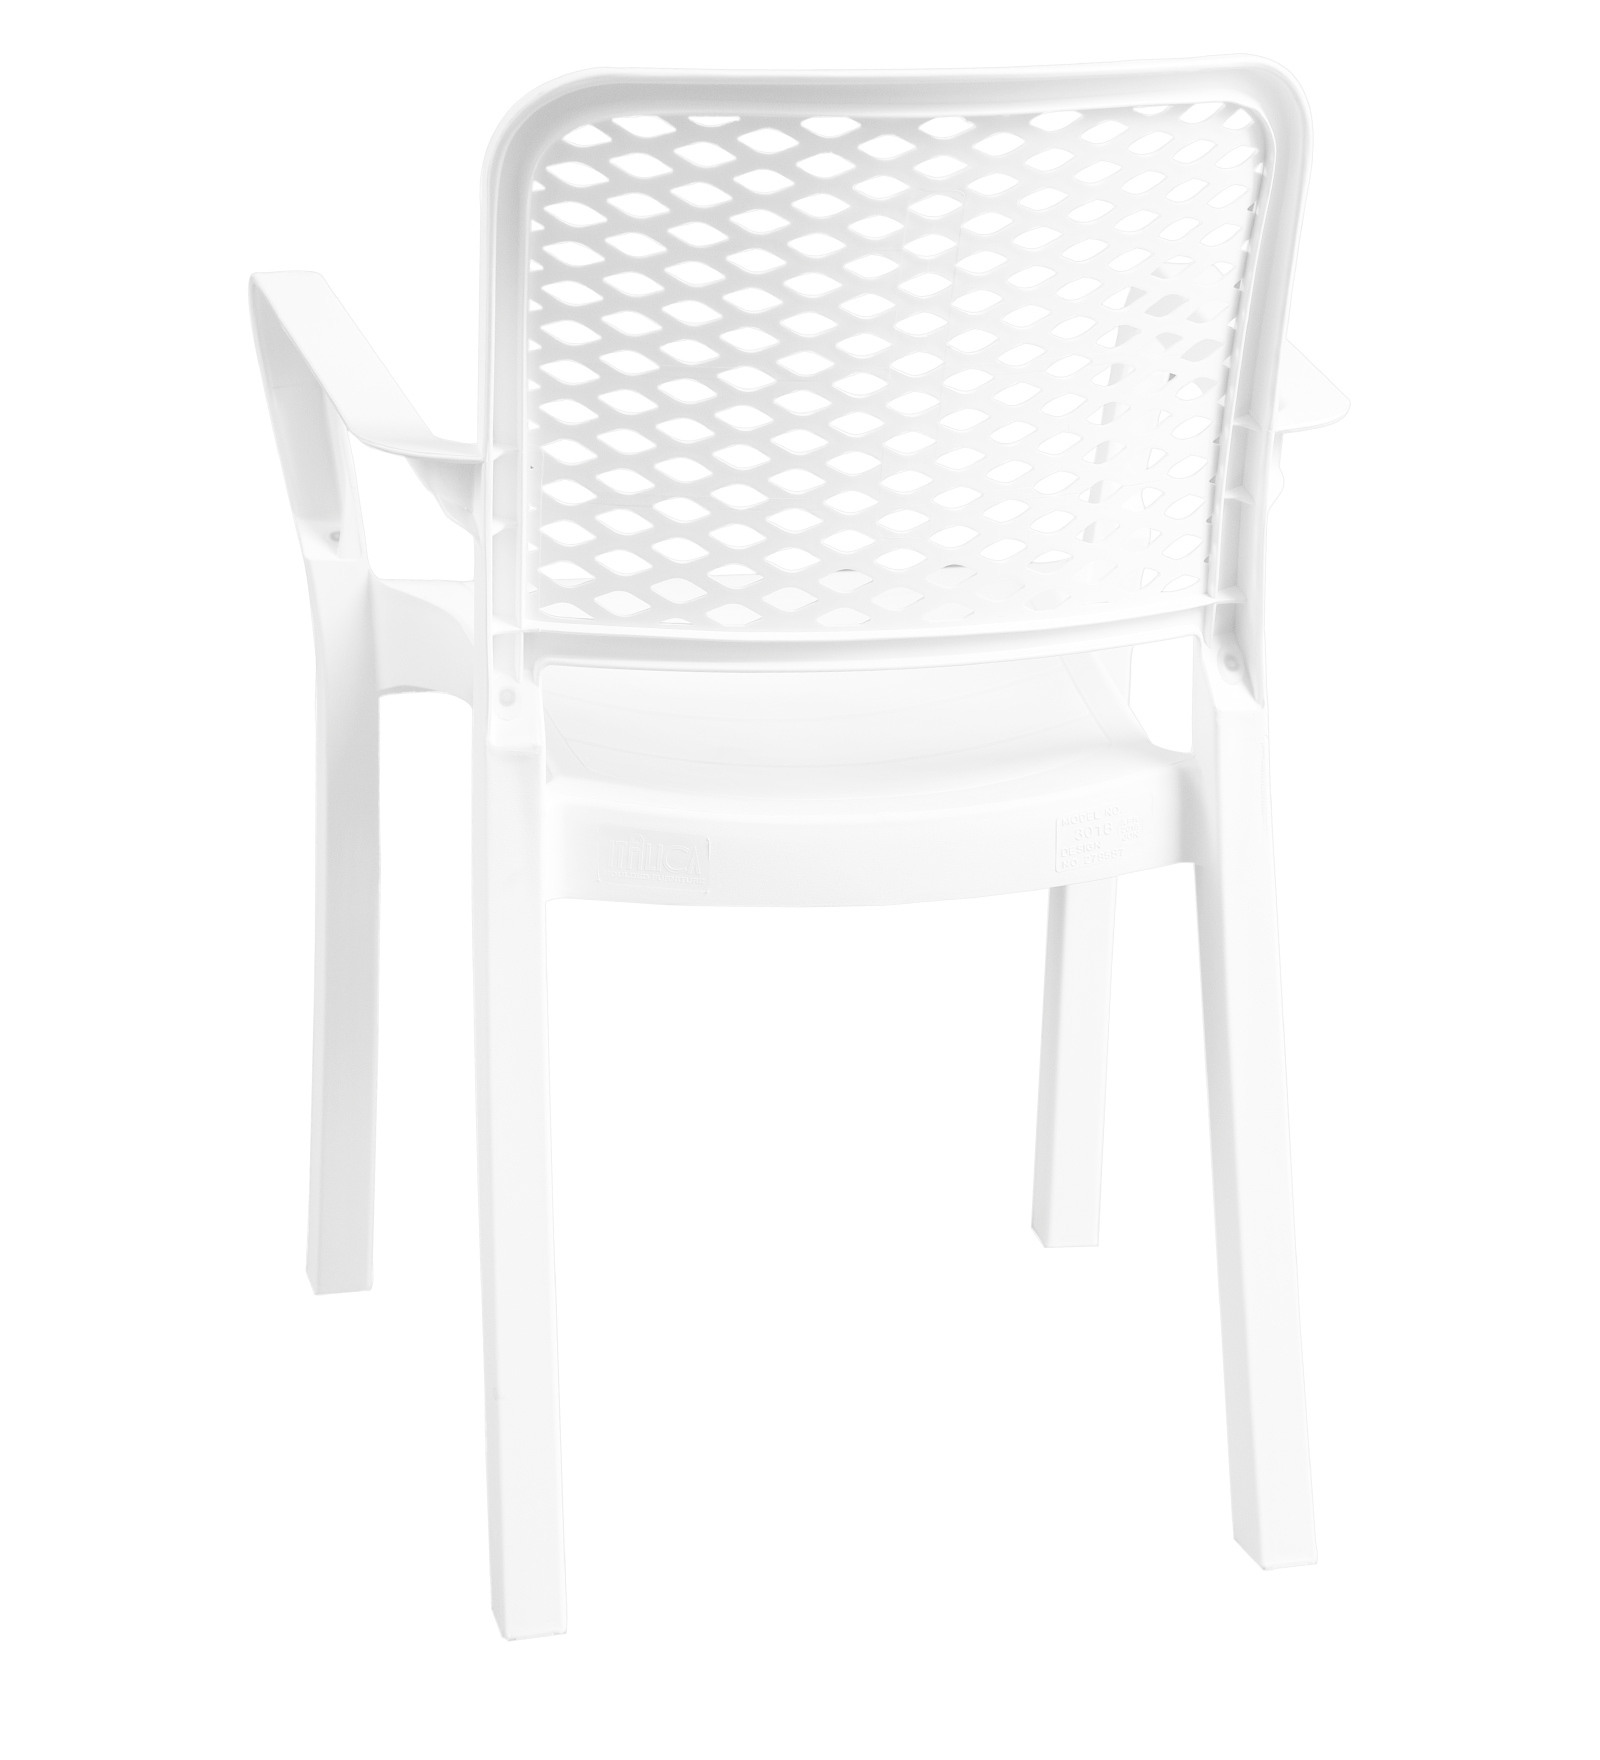Luxury Plastic Chair in White Colour by Italica Furniture: (231, 66, 1329, 1643)
